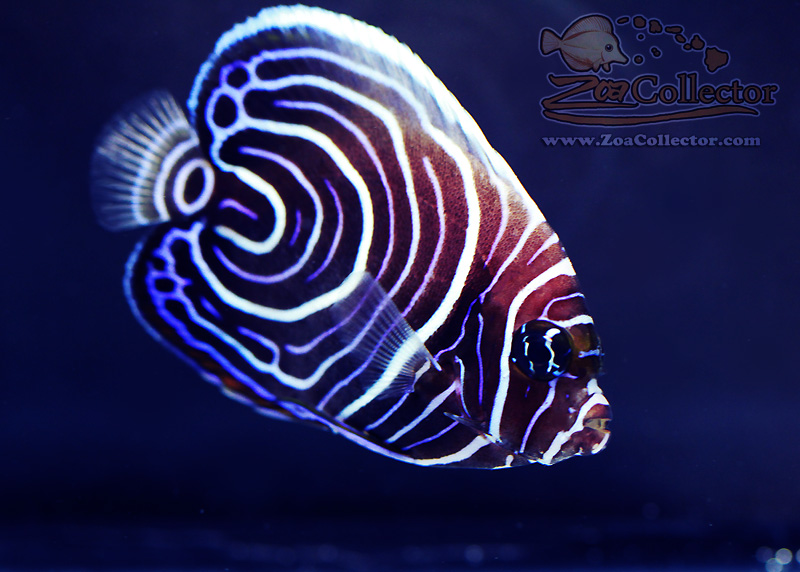Pomacanthus_imperator: (72, 4, 628, 482)
